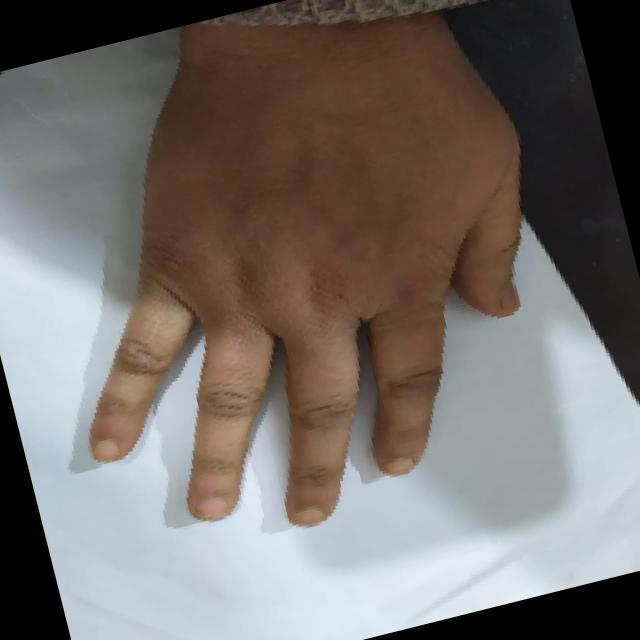Nail: (287, 506, 326, 526), (195, 495, 226, 519), (498, 279, 518, 315), (91, 437, 118, 461), (382, 456, 413, 474)
